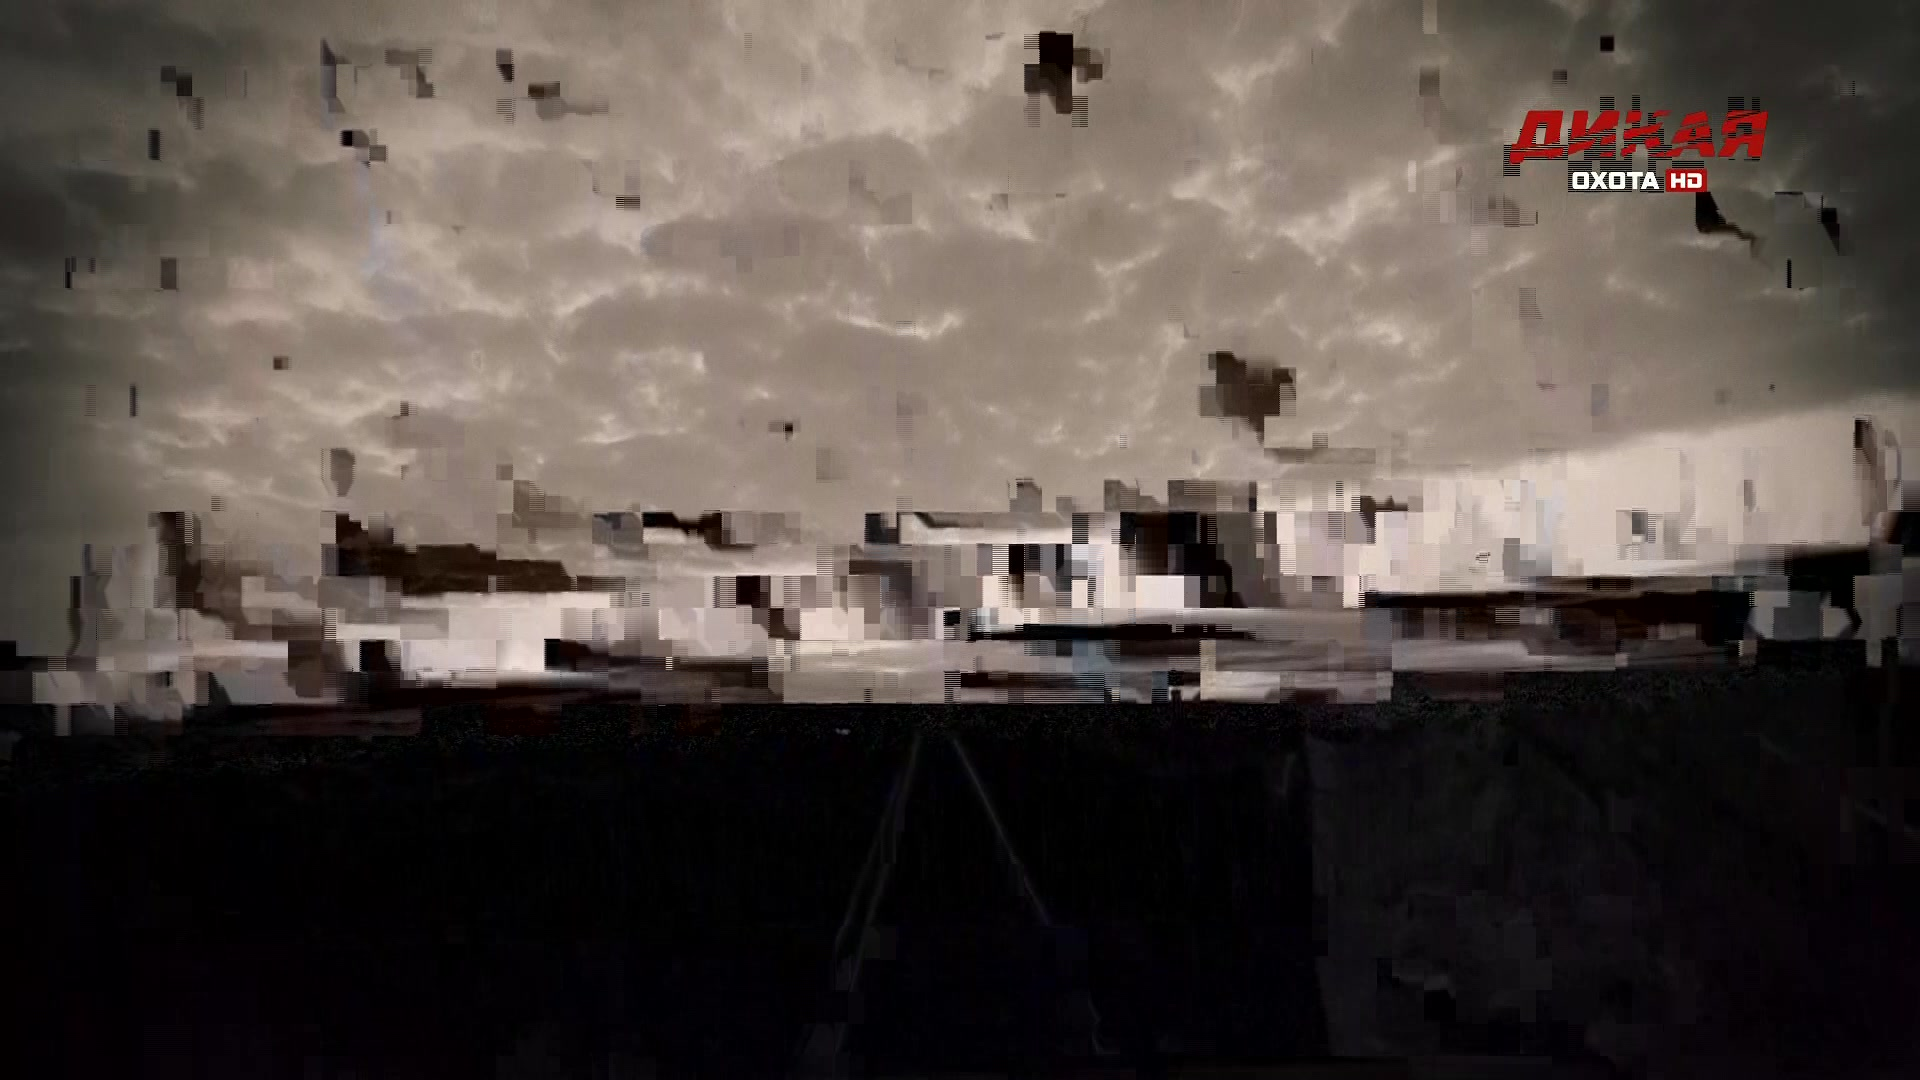Dikaya_Ohota_HD: (1502, 108, 1774, 194)
